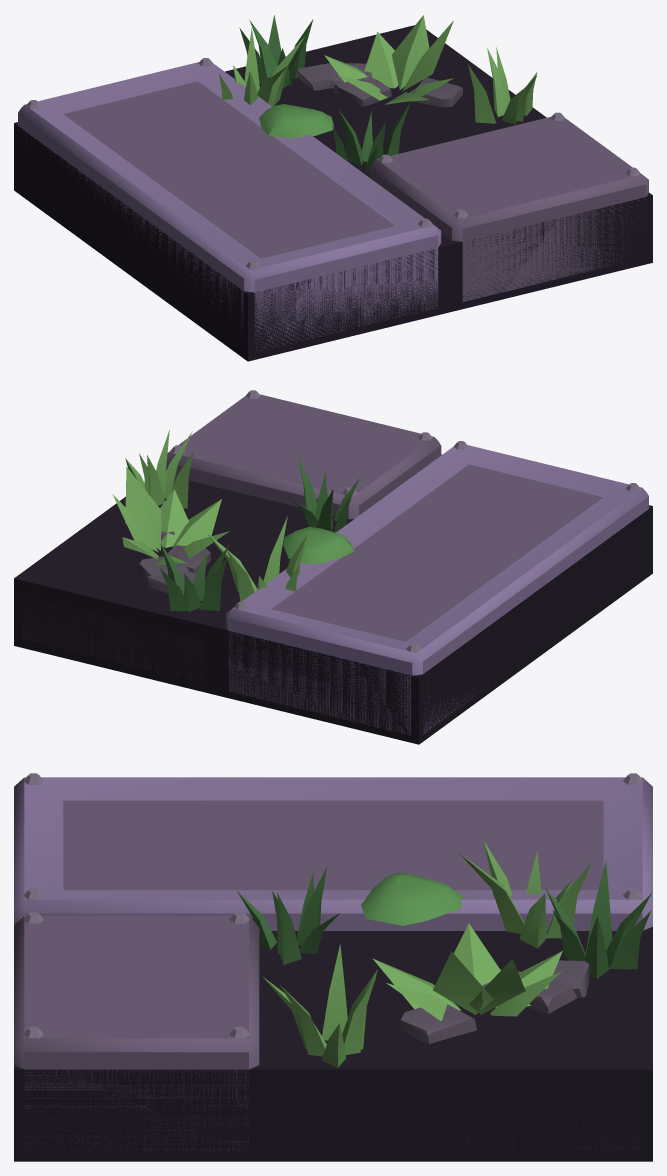
The model's file is floor_overgrown__lower.glb.
3 views of the same model, one above another, from view 1: azimuth 30°, elevation 25°; view 2: azimuth 150°, elevation 25°; view 3: azimuth 270°, elevation 25° (orthographic). The views are drawn at different scales.
Visible parts, largest first — view 1: floor_overgrown; view 2: floor_overgrown; view 3: floor_overgrown.
Boxes of the visible parts, x1=… form: floor_overgrown: x1=14, y1=15, x2=652, y2=361; floor_overgrown: x1=14, y1=390, x2=652, y2=744; floor_overgrown: x1=14, y1=773, x2=652, y2=1161.
Size of the model in its own units: 0.9827 by 0.3106 by 0.974.
